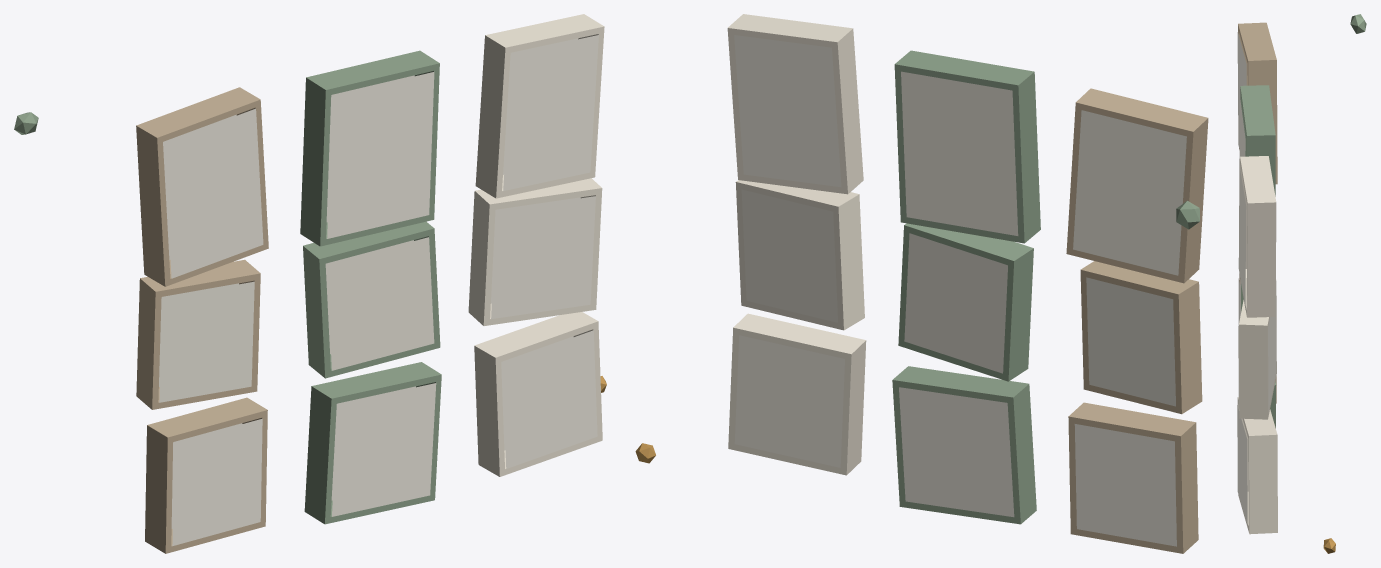
The model's file is wall.glb.
The picture shows the model from 3 angles, left to right: view 1: azimuth 30°, elevation 25°; view 2: azimuth 150°, elevation 25°; view 3: azimuth 270°, elevation 25°; orthographic projection. The views are drawn at different scales.
Visible parts, largest first — view 1: Slot_02, Slot_01, Slot_03, Slot_05, Slot_08, Slot_06, Slot_09, Slot_04, Slot_07, Frame_02, Frame_01, Frame_03 (+6 smaller); view 2: Frame_02, Frame_01, Frame_03, Frame_08, Frame_09, Frame_05, Frame_07, Frame_06, Frame_04; view 3: Frame_03, Frame_06, Frame_09, Frame_01, Frame_02, Slot_09, Slot_03, Slot_01, Slot_02, DecoA.
Part boxes in pixels (<box>): Slot_02: <box>327,72,434,238</box>; Slot_01: <box>164,108,263,278</box>; Slot_03: <box>503,35,598,190</box>; Slot_05: <box>326,237,434,370</box>; Slot_08: <box>332,383,436,516</box>; Slot_06: <box>491,196,595,319</box>; Slot_09: <box>502,330,597,468</box>; Slot_04: <box>159,281,254,402</box>; Slot_07: <box>172,418,262,546</box>; Frame_02: <box>300,50,439,246</box>; Frame_01: <box>136,87,268,286</box>; Frame_03: <box>475,14,604,198</box>; Frame_02: <box>894,50,1040,243</box>; Frame_01: <box>1066,88,1208,283</box>; Frame_03: <box>727,14,863,194</box>; Frame_08: <box>892,366,1036,524</box>; Frame_09: <box>728,313,866,475</box>; Frame_05: <box>898,223,1033,381</box>; Frame_07: <box>1068,402,1198,553</box>; Frame_06: <box>735,180,864,330</box>; Frame_04: <box>1080,261,1202,414</box>; Frame_03: <box>1240,156,1276,317</box>; Frame_06: <box>1239,279,1276,419</box>; Frame_09: <box>1237,397,1277,534</box>; Frame_01: <box>1238,22,1277,184</box>; Frame_02: <box>1240,85,1275,196</box>; Slot_09: <box>1237,405,1247,525</box>; Slot_03: <box>1238,165,1246,309</box>; Slot_01: <box>1237,32,1246,148</box>; Slot_02: <box>1239,95,1245,166</box>; DecoA: <box>1350,14,1366,33</box>.
Size of the model in its own units: 7.37 by 5.42 by 1.8.
